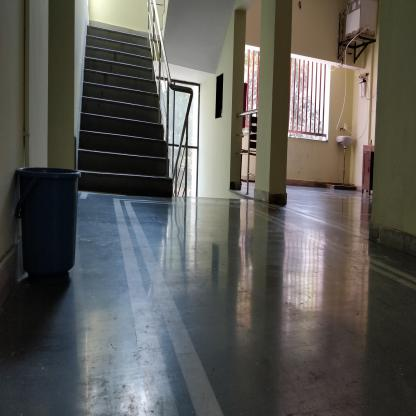stairs: (88, 31, 148, 200)
